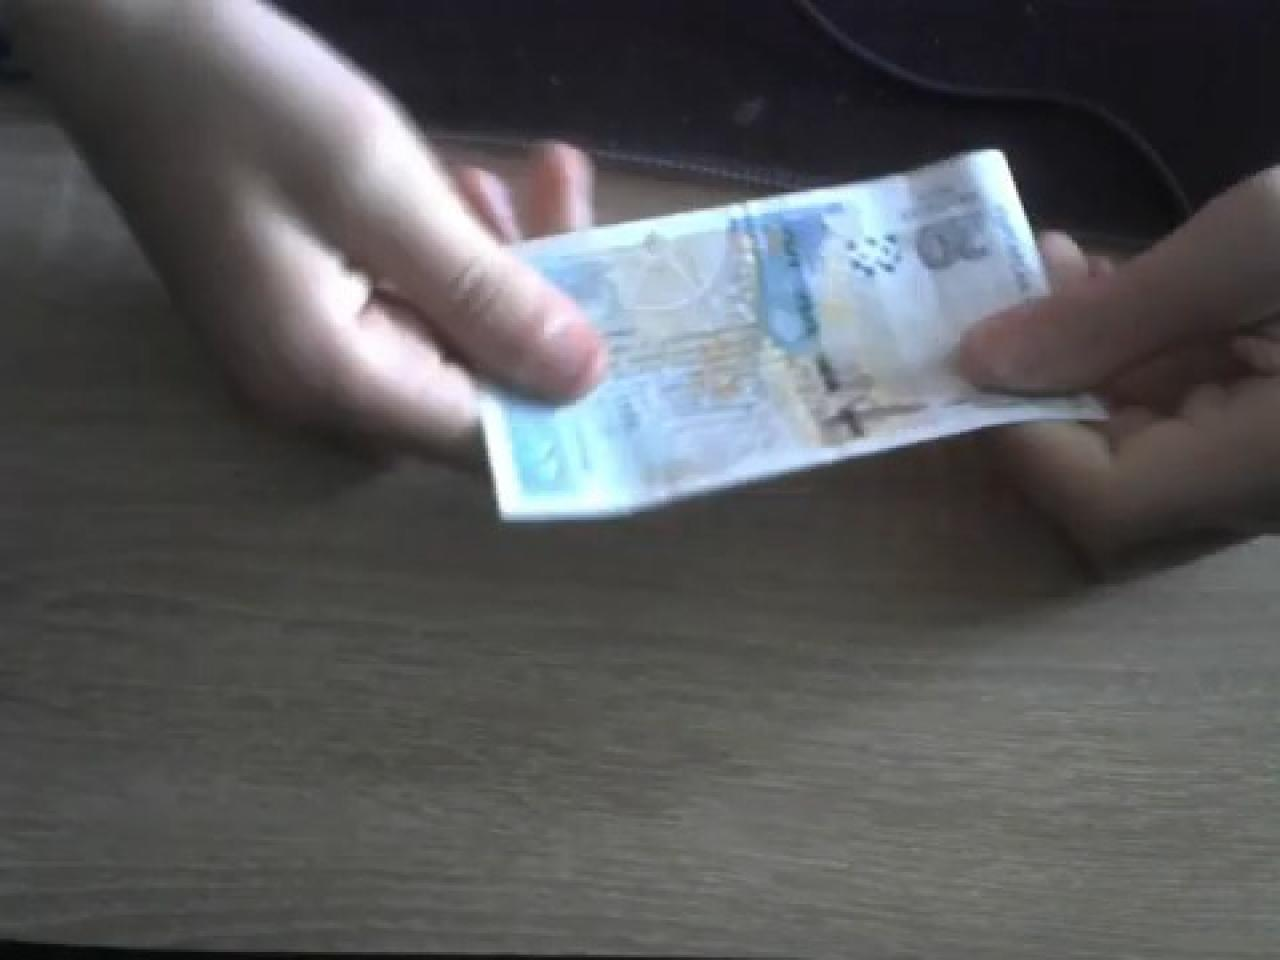20leva: (475, 152, 1120, 522)
